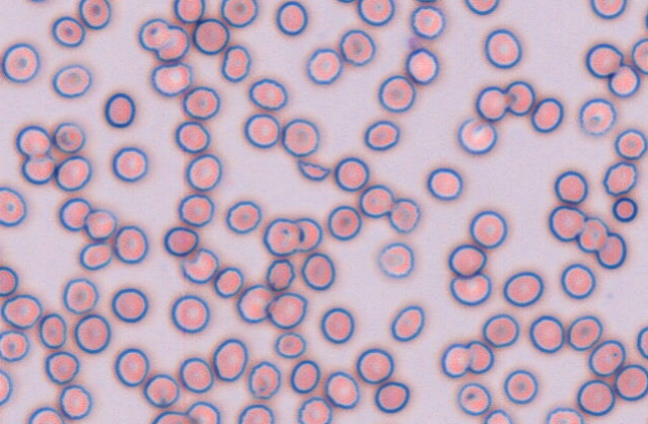RBC: (0, 42, 39, 83), (266, 291, 307, 329), (150, 61, 193, 97), (212, 338, 248, 381), (170, 294, 209, 333), (281, 117, 319, 157), (484, 28, 522, 68), (469, 209, 507, 248), (236, 283, 273, 323), (457, 117, 497, 154), (1, 293, 42, 329), (502, 270, 543, 306), (548, 204, 586, 242), (578, 97, 616, 135), (377, 74, 415, 112), (263, 217, 300, 256), (576, 379, 615, 416), (355, 347, 394, 384), (74, 313, 110, 353), (449, 272, 491, 306), (192, 17, 229, 55), (185, 153, 222, 191), (529, 314, 565, 353), (114, 347, 149, 387), (51, 63, 91, 98), (588, 339, 625, 376), (377, 241, 414, 278), (305, 47, 342, 84), (154, 24, 190, 62), (585, 42, 623, 78), (339, 28, 375, 66), (324, 370, 359, 409), (300, 251, 335, 290), (113, 224, 148, 263), (62, 277, 98, 314), (54, 155, 91, 191), (111, 287, 148, 323), (111, 146, 148, 182), (182, 85, 220, 120), (447, 243, 486, 277), (247, 360, 281, 399), (602, 160, 638, 196), (566, 314, 602, 350), (560, 262, 595, 299), (179, 356, 214, 393), (243, 113, 280, 148), (404, 47, 439, 84), (614, 363, 648, 401), (320, 306, 354, 344), (248, 77, 287, 110), (358, 183, 394, 218), (143, 373, 179, 408), (482, 313, 519, 347), (177, 193, 214, 227), (426, 166, 463, 200), (390, 304, 424, 341), (334, 156, 369, 191), (503, 369, 538, 404), (327, 204, 361, 240), (225, 200, 261, 234), (409, 5, 445, 39), (456, 381, 491, 415), (58, 384, 92, 419), (44, 350, 79, 384), (576, 216, 609, 252), (15, 124, 51, 157), (475, 85, 508, 121), (530, 97, 563, 133), (174, 120, 210, 153), (595, 231, 626, 269), (220, 44, 251, 82), (554, 170, 588, 204), (374, 380, 409, 413), (388, 197, 420, 233), (137, 17, 170, 51), (58, 197, 91, 231), (364, 119, 399, 151), (275, 0, 307, 35), (504, 80, 535, 116), (104, 92, 135, 128), (607, 64, 640, 97), (83, 208, 117, 240), (51, 15, 85, 47), (163, 225, 198, 256), (440, 342, 470, 378), (52, 121, 85, 153), (614, 128, 647, 160), (289, 359, 320, 393), (219, 0, 258, 27), (293, 216, 323, 251), (0, 186, 26, 226), (38, 312, 66, 349), (21, 154, 55, 184), (213, 266, 244, 298), (265, 258, 295, 291), (465, 340, 494, 374), (296, 396, 332, 423), (357, 0, 394, 26), (79, 241, 112, 270), (0, 329, 29, 362), (78, 0, 111, 29), (274, 331, 306, 358), (185, 400, 220, 423), (237, 403, 274, 423), (173, 0, 204, 23), (589, 0, 626, 19), (611, 196, 638, 222), (545, 406, 584, 423), (630, 37, 647, 74), (27, 406, 64, 423), (151, 410, 195, 423), (0, 265, 18, 296), (464, 0, 499, 15), (482, 408, 512, 423), (0, 368, 12, 405), (636, 325, 647, 359), (644, 4, 648, 31), (411, 0, 441, 3), (0, 239, 3, 266), (24, 0, 51, 3), (333, 0, 356, 3)
Schistocyte: (179, 250, 219, 285), (299, 161, 330, 182)
